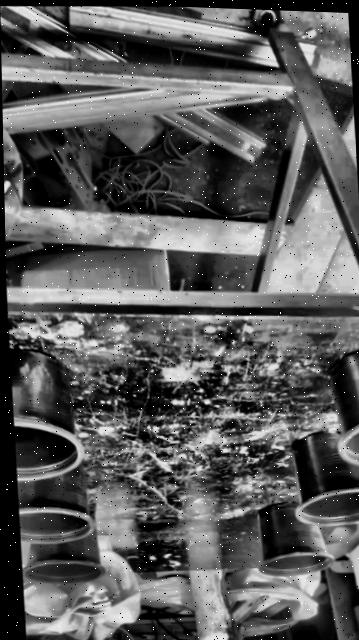pot: (8, 345, 82, 482), (289, 427, 359, 526), (16, 463, 94, 544), (255, 503, 334, 578), (21, 526, 104, 583), (330, 351, 359, 464), (99, 131, 134, 162)
